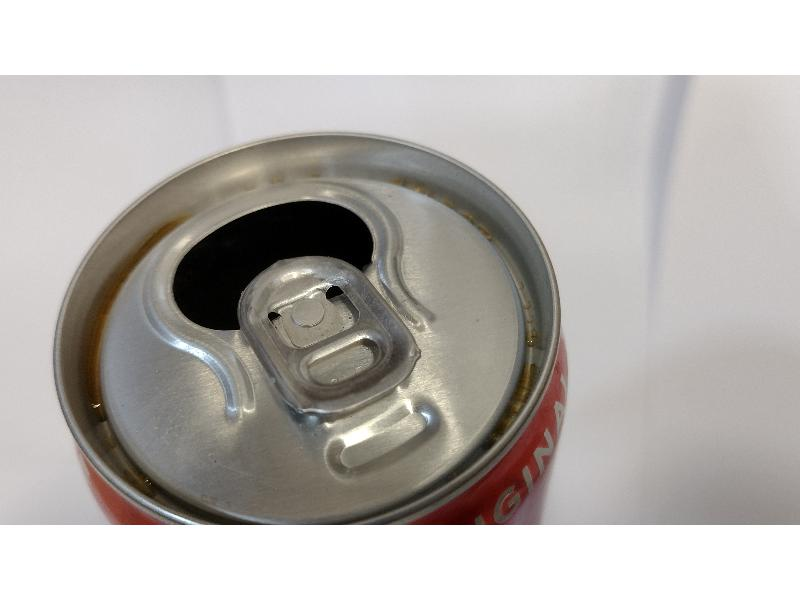can: (41, 123, 565, 519)
